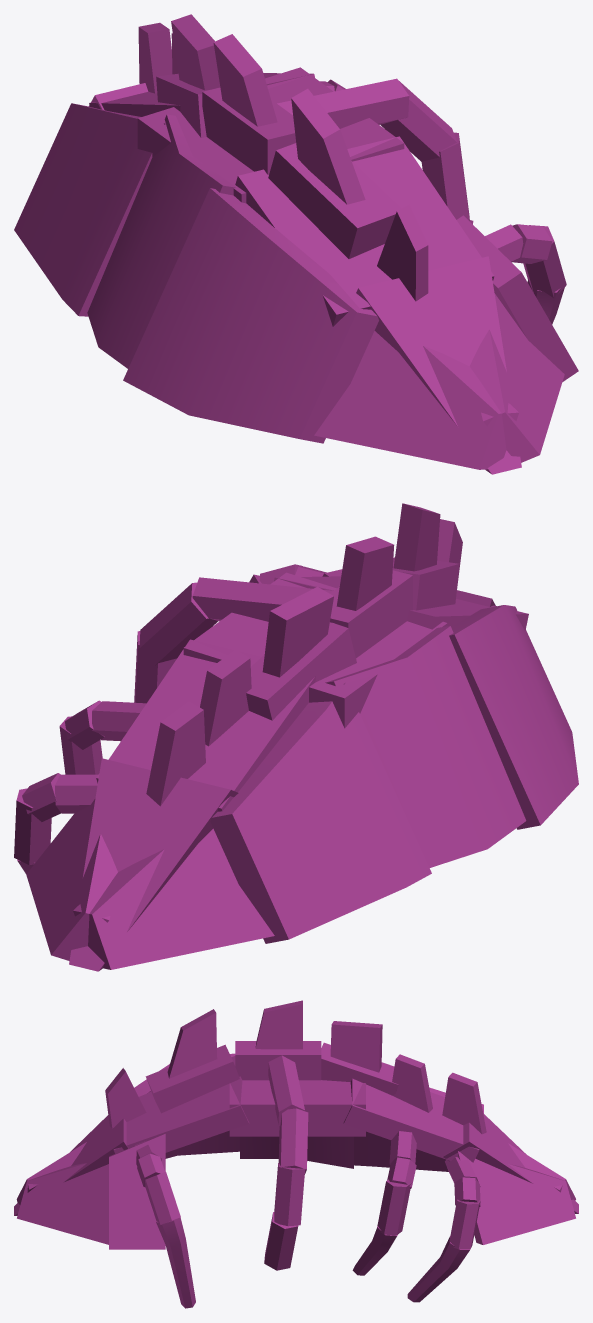
The model's file is SM_Bld_Mess_Hall_01_Collision.fbx.
The picture shows the model from 3 angles, top to bottom: view 1: azimuth 30°, elevation 25°; view 2: azimuth 150°, elevation 25°; view 3: azimuth 270°, elevation 25°; orthographic projection. The views are drawn at different scales.
Visible parts, largest first — view 1: SM_Bld_Mess_Hall_01_Collision; view 2: SM_Bld_Mess_Hall_01_Collision; view 3: SM_Bld_Mess_Hall_01_Collision.
Part boxes in pixels (bbox=[...]): SM_Bld_Mess_Hall_01_Collision: bbox=[14, 14, 578, 474]; SM_Bld_Mess_Hall_01_Collision: bbox=[14, 503, 578, 971]; SM_Bld_Mess_Hall_01_Collision: bbox=[14, 1000, 578, 1308].
Bounding box in the file's own units: 1001 × 936 × 1958.
